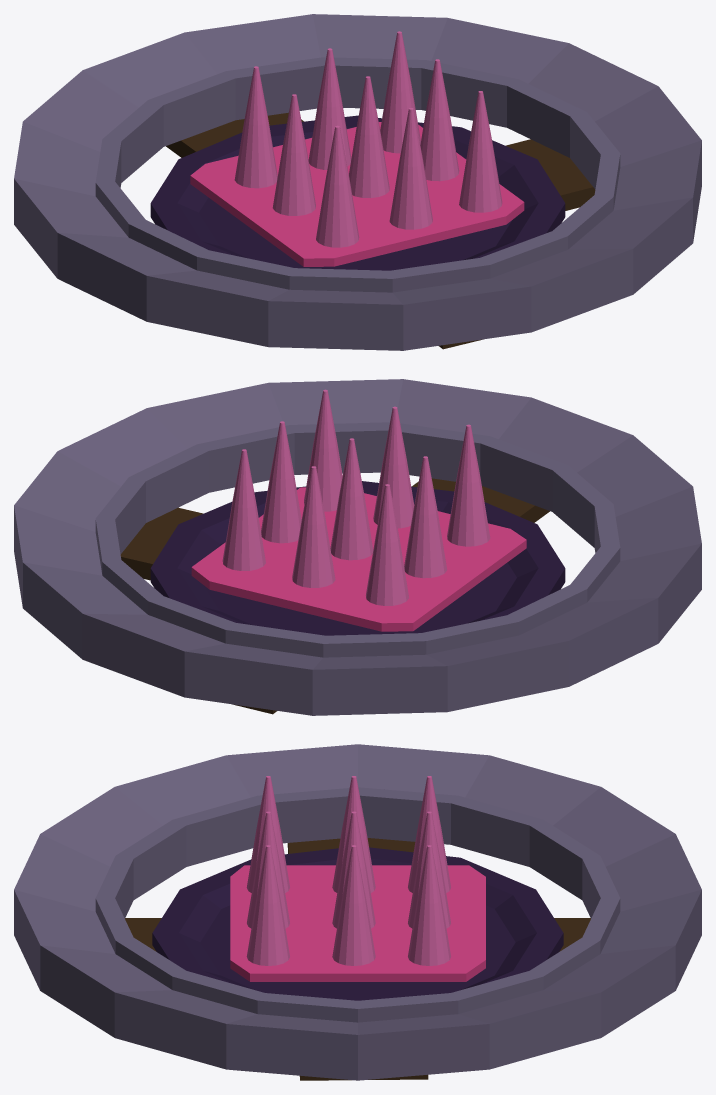
The model's file is dici.fbx.
3 views of the same model, one above another, from view 1: azimuth 30°, elevation 25°; view 2: azimuth 150°, elevation 25°; view 3: azimuth 270°, elevation 25° (orthographic).
Parts seen in each view (by area): view 1: Circle, Circle.010, Plane, Circle.008, Circle.004, Circle.003, Circle.007, Circle.009, Circle.006, Circle.001, Circle.005, Circle.002 (+2 smaller); view 2: Circle, Circle.010, Plane, Circle.002, Circle.005, Circle.007, Circle.008, Circle.006, Circle.009, Circle.001, Circle.004, Circle.003 (+2 smaller); view 3: Circle, Plane, Circle.010, Circle.002, Circle.003, Circle.001, Circle.008, Circle.007, Circle.009, Circle.006, Circle.005, Circle.004 (+2 smaller).
Boxes of the visible parts, left/top/right/bottom form: Circle: left=14, top=14, right=701, bottom=350; Circle.010: left=150, top=115, right=565, bottom=270; Plane: left=190, top=122, right=524, bottom=266; Circle.008: left=234, top=66, right=277, bottom=188; Circle.004: left=389, top=108, right=432, bottom=229; Circle.003: left=459, top=91, right=502, bottom=212; Circle.007: left=316, top=125, right=359, bottom=247; Circle.009: left=272, top=94, right=315, bottom=215; Circle.006: left=349, top=76, right=389, bottom=197; Circle.001: left=420, top=59, right=459, bottom=181; Circle.005: left=308, top=48, right=351, bottom=169; Circle.002: left=380, top=31, right=420, bottom=153; Circle: left=14, top=379, right=701, bottom=715; Circle.010: left=150, top=481, right=565, bottom=635; Plane: left=191, top=487, right=526, bottom=631; Circle.002: left=222, top=449, right=265, bottom=570; Circle.005: left=292, top=466, right=335, bottom=587; Circle.007: left=447, top=424, right=490, bottom=546; Circle.008: left=366, top=484, right=408, bottom=605; Circle.006: left=330, top=438, right=373, bottom=560; Circle.009: left=404, top=456, right=447, bottom=578; Circle.001: left=261, top=421, right=301, bottom=543; Circle.004: left=373, top=406, right=414, bottom=528; Circle.003: left=304, top=389, right=342, bottom=511; Circle: left=14, top=744, right=701, bottom=1080; Plane: left=230, top=865, right=485, bottom=981; Circle.010: left=152, top=847, right=563, bottom=1000; Circle.002: left=408, top=845, right=450, bottom=965; Circle.003: left=246, top=845, right=289, bottom=965; Circle.001: left=332, top=845, right=375, bottom=965; Circle.008: left=408, top=776, right=450, bottom=892; Circle.007: left=246, top=776, right=289, bottom=892; Circle.009: left=332, top=776, right=375, bottom=892; Circle.006: left=332, top=811, right=375, bottom=928; Circle.005: left=408, top=811, right=450, bottom=928; Circle.004: left=247, top=811, right=289, bottom=928.
Size of the model in its own units: 200 by 49.17 by 200.
